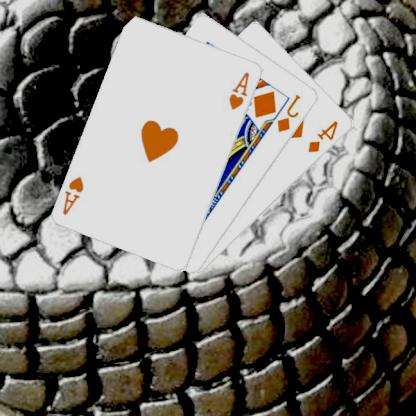4D: (307, 118, 342, 154)
AH: (228, 69, 253, 112), (62, 174, 87, 216)
JD: (276, 91, 304, 134)
